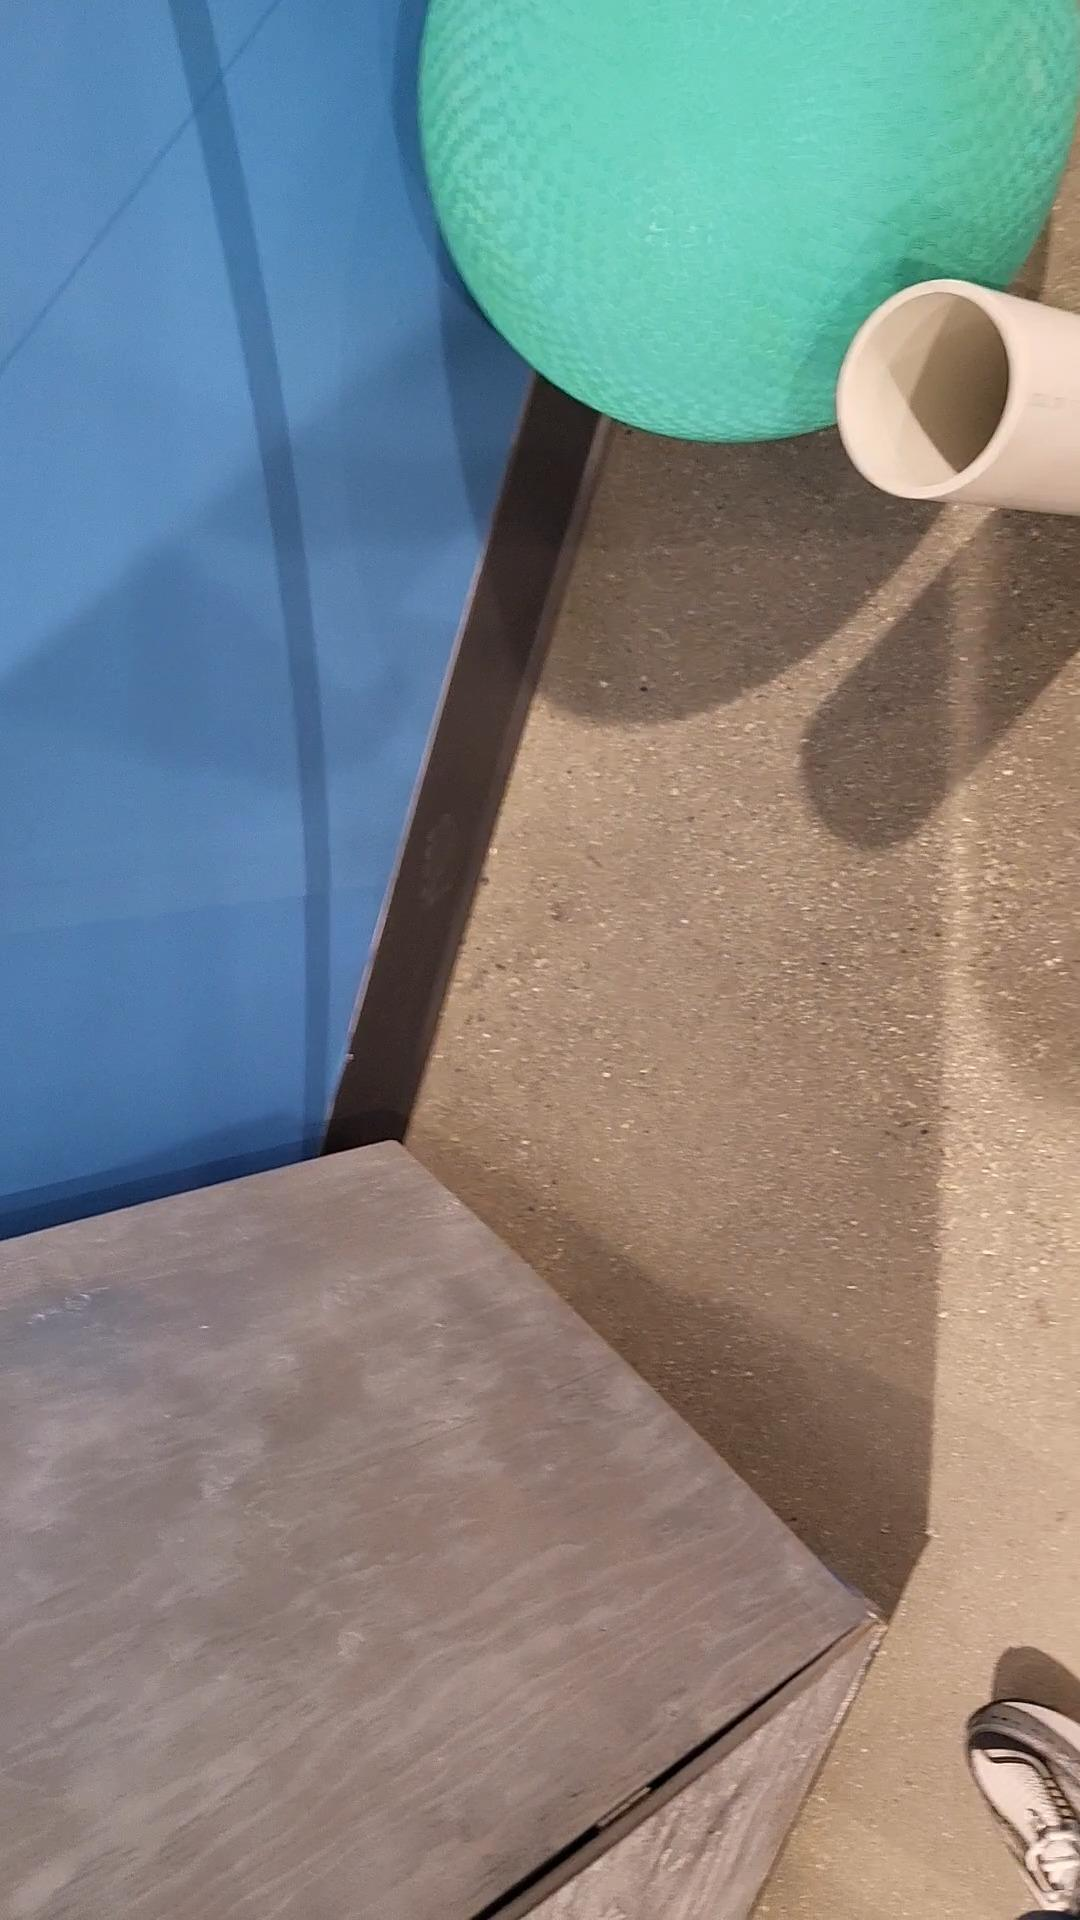algae: (428, 0, 1080, 440)
coral: (837, 278, 1079, 512)
